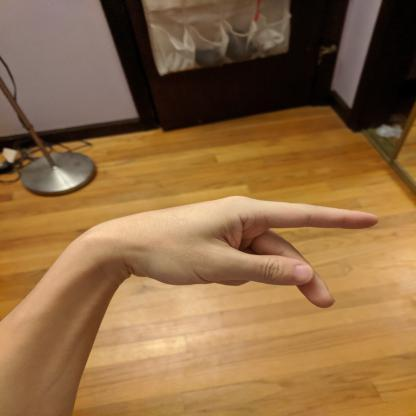P: (122, 192, 384, 314)
